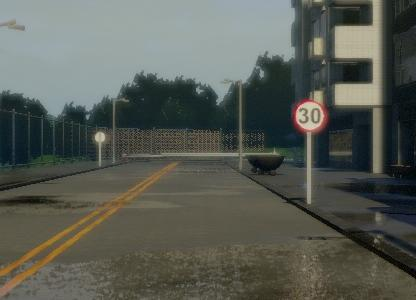Speed_30: (291, 96, 329, 134)
